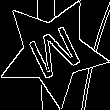M_SE: (20, 19, 85, 85)
